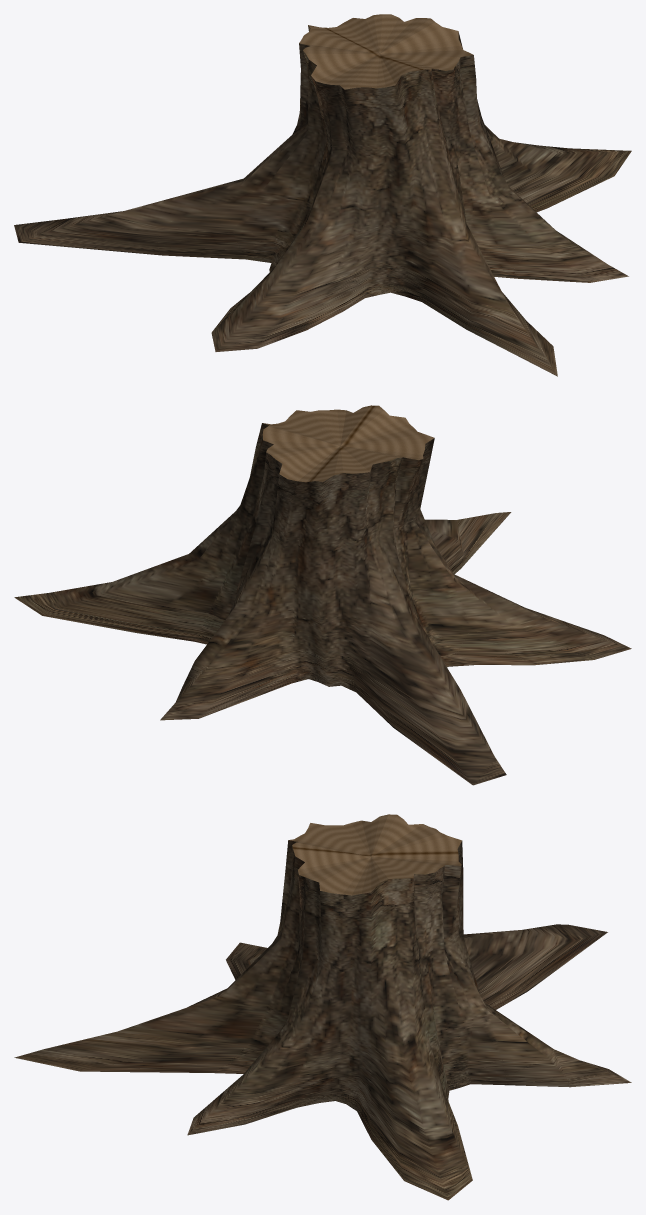
File: stump_roots.fbx
The picture shows the model from 3 angles, top to bottom: view 1: azimuth 30°, elevation 25°; view 2: azimuth 150°, elevation 25°; view 3: azimuth 270°, elevation 25°; orthographic projection. The views are drawn at different scales.
Visible parts, largest first — view 1: stump_roots; view 2: stump_roots; view 3: stump_roots.
Boxes of the visible parts, x1=… form: stump_roots: x1=14, y1=14, x2=631, y2=376; stump_roots: x1=14, y1=405, x2=631, y2=785; stump_roots: x1=14, y1=814, x2=631, y2=1200.
Size of what is drawn, in the model's own units: 2 by 0.714 by 1.89.
Materials: 1 (1 with a texture image).
